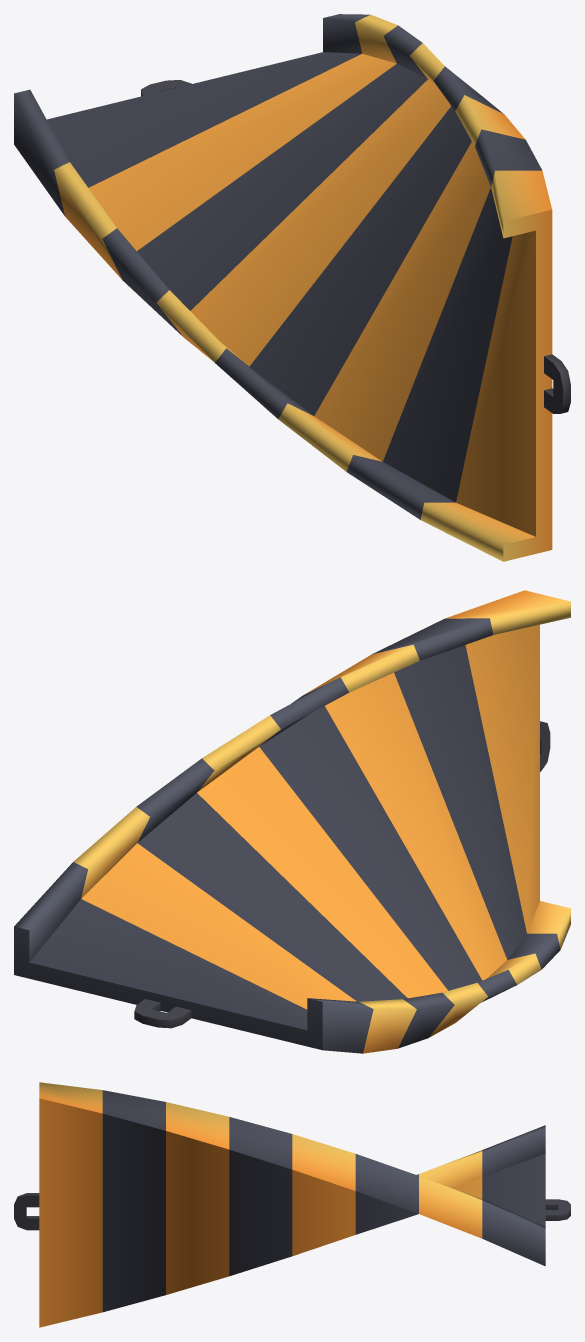
The model's file is track-striped-wide-straight-skew-right-side.fbx.
3 views of the same model, one above another, from view 1: azimuth 30°, elevation 25°; view 2: azimuth 150°, elevation 25°; view 3: azimuth 270°, elevation 25° (orthographic). The views are drawn at different scales.
Visible parts, largest first — view 1: track-striped-wide-straight-skew-right-side; view 2: track-striped-wide-straight-skew-right-side; view 3: track-striped-wide-straight-skew-right-side.
Boxes of the visible parts, x1=… form: track-striped-wide-straight-skew-right-side: x1=14, y1=14, x2=570, y2=561; track-striped-wide-straight-skew-right-side: x1=14, y1=590, x2=570, y2=1053; track-striped-wide-straight-skew-right-side: x1=14, y1=1082, x2=570, y2=1327.
Bounding box in the file's own units: 204 × 204 × 440.
